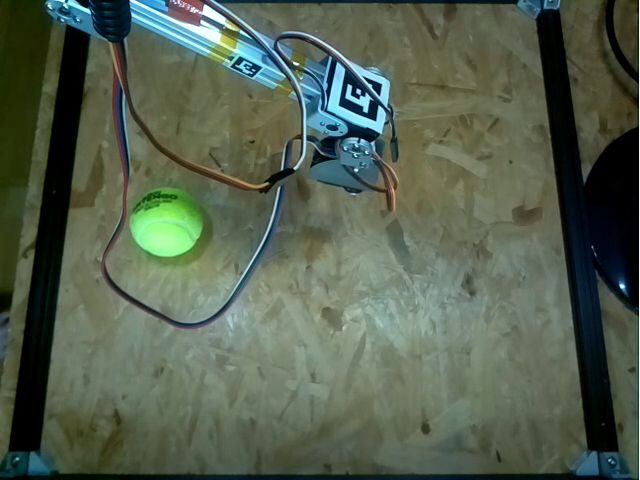tennis_ball: (127, 186, 203, 257)
